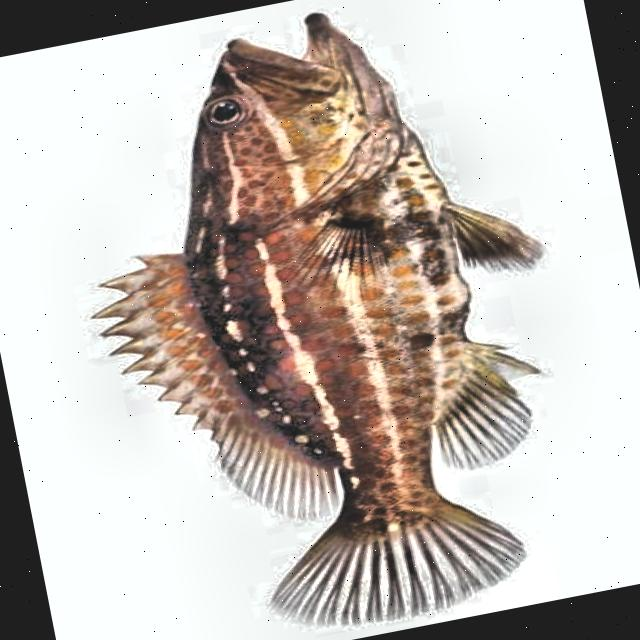fish: (41, 0, 610, 640)
